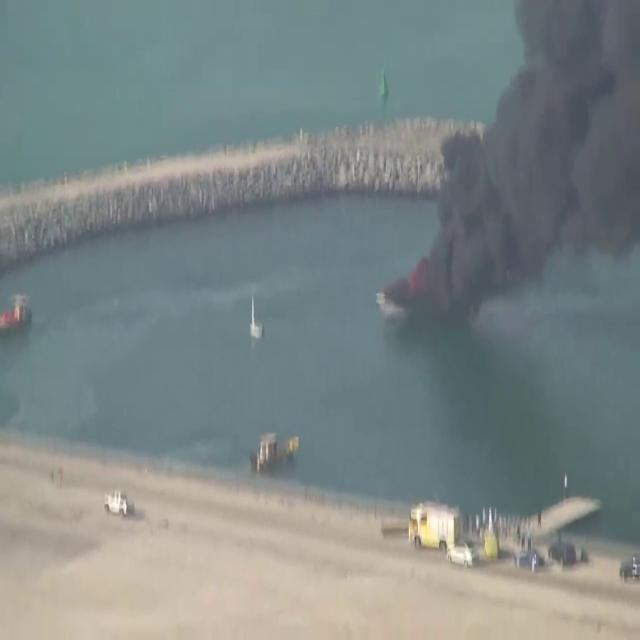Smoke: (400, 1, 640, 396)
